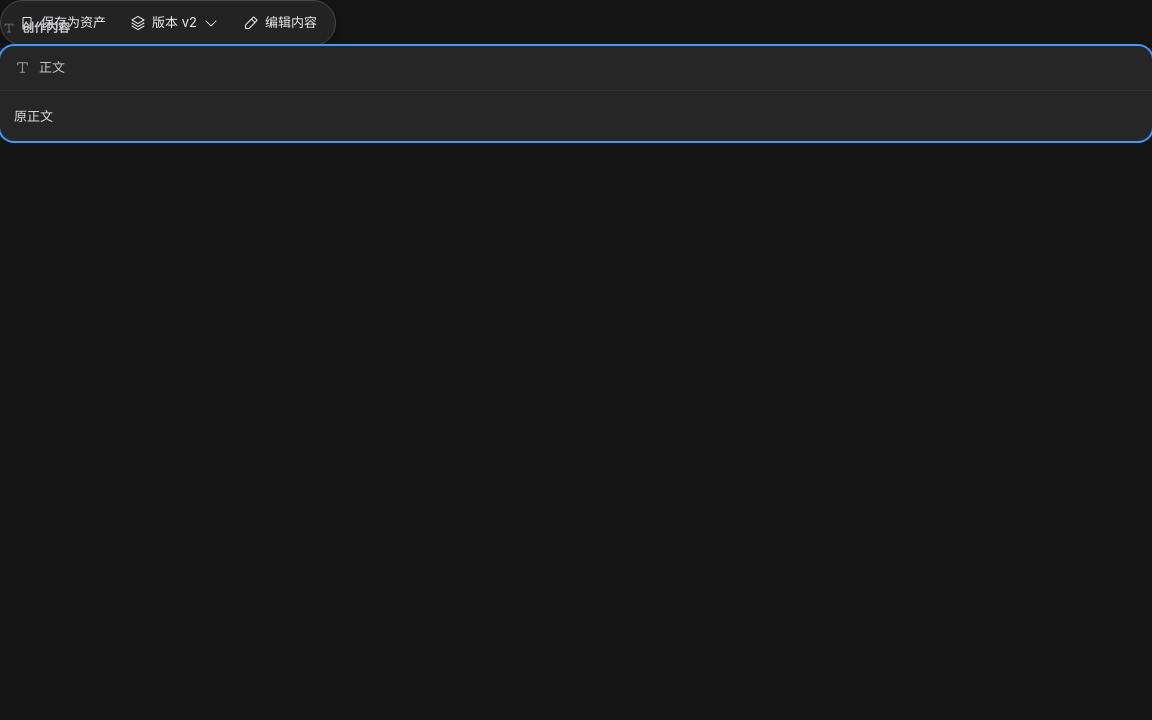
Test case: ContentCanvasCard › retains the text and pinned CAS version when save-and-exit conflicts
The image size is (1152, 720).
Click the button "编辑内容".
click(280, 23)  # box top-left (233, 7), bottom-right (327, 39)
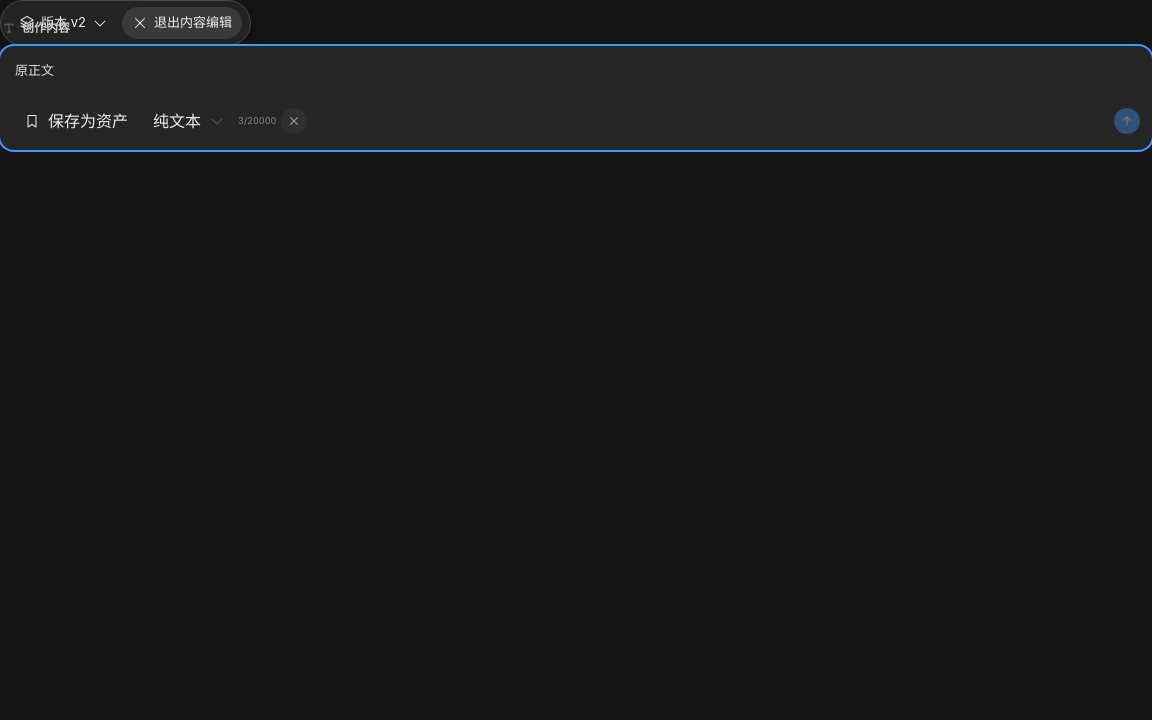
Type "，保留草稿" into the text box named "内容".
click(576, 70); type("，保留草稿")  # box top-left (12, 54), bottom-right (1140, 87)
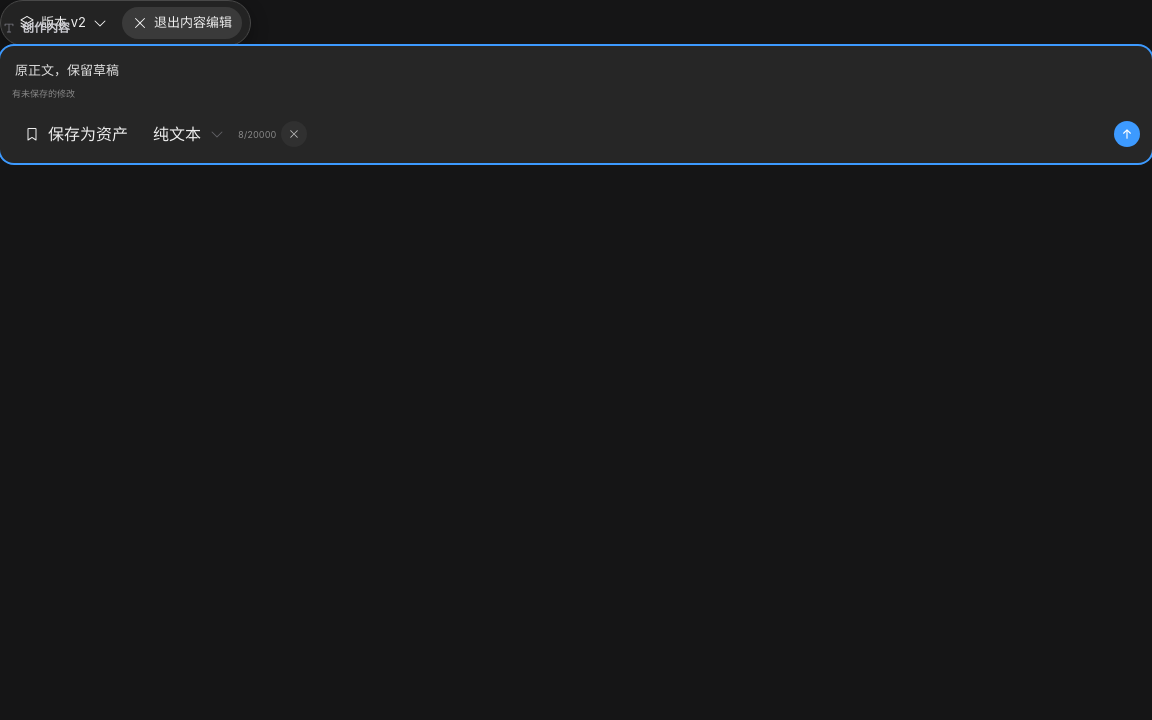
Now the message reads "有未保存的修改", box top-left (12, 88), bottom-right (75, 99)
Click the button named "退出内容编辑".
click(294, 134)  # box top-left (281, 121), bottom-right (307, 147)
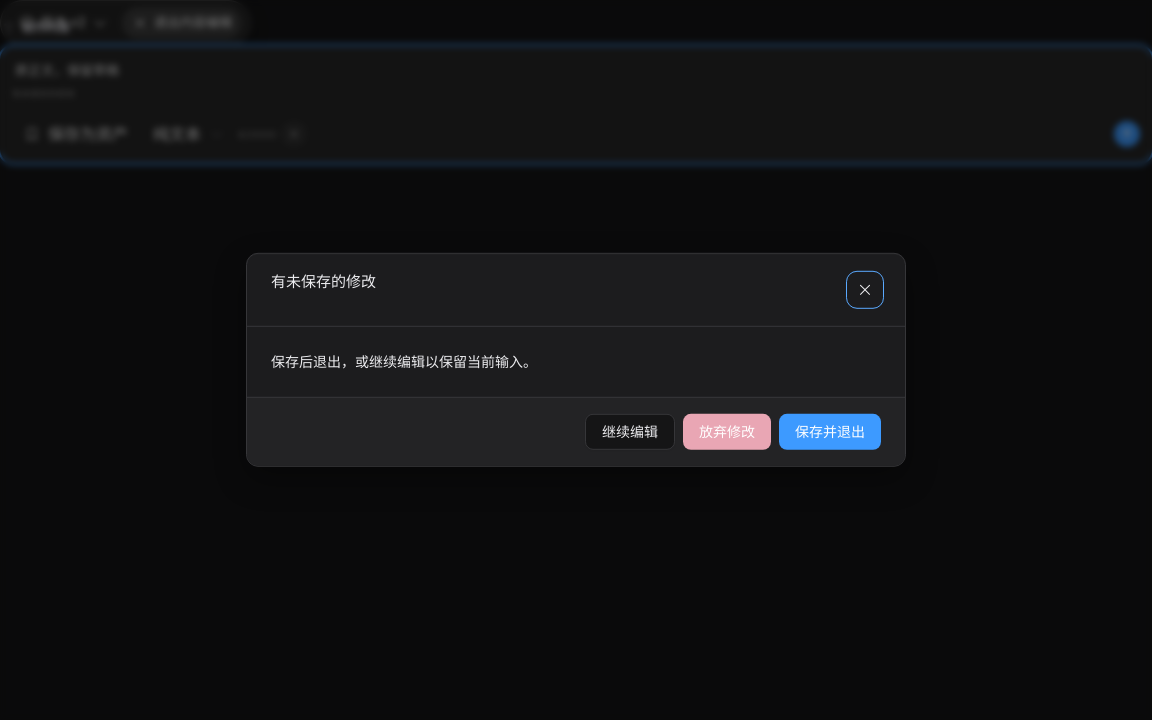
Click the button "保存并退出".
click(830, 432)  # box top-left (779, 414), bottom-right (881, 450)
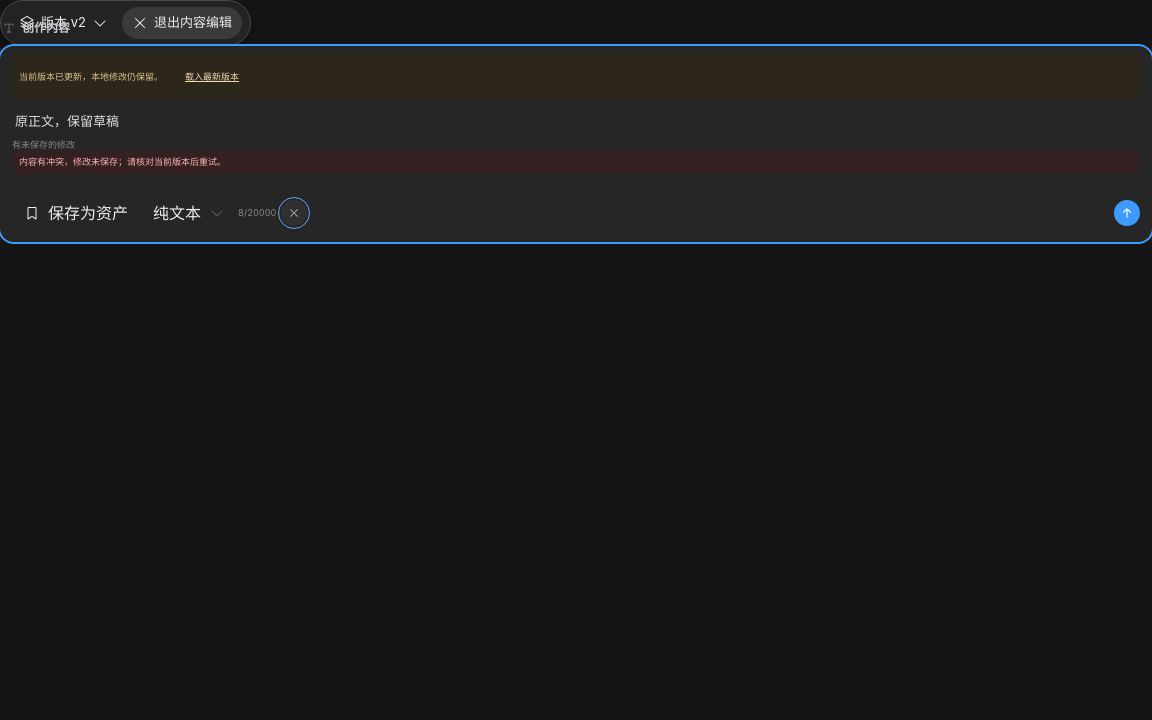
Now the text box named "内容" holds "原正文，保留草稿", box top-left (12, 105), bottom-right (1140, 138)
Now the message "内容有冲突，修改未保存；请核对当前版本后重试。" is shown, box top-left (12, 151), bottom-right (1140, 174)
Now the dialog is gone
